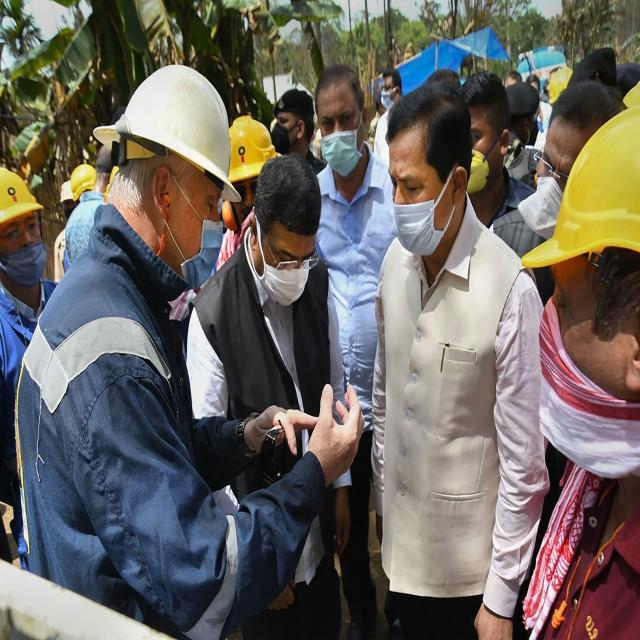safety_helmet: (524, 102, 639, 275), (92, 58, 238, 187), (226, 112, 278, 180), (0, 165, 42, 225)
